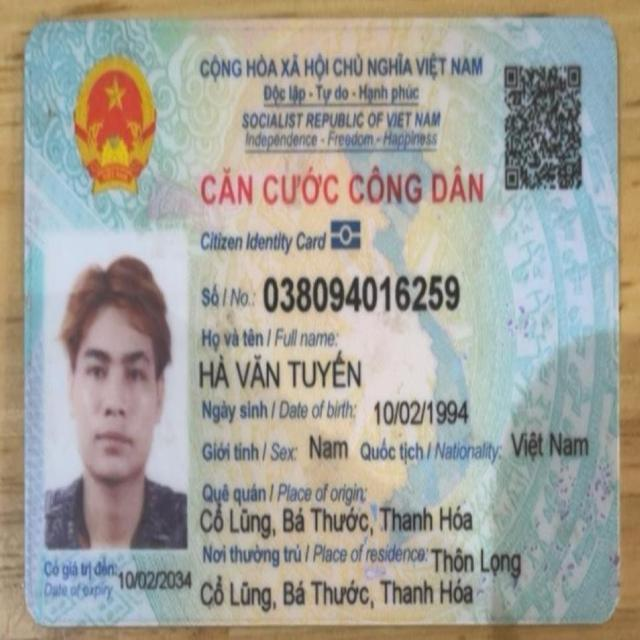current_place: (199, 569, 477, 613), (431, 540, 528, 581)
dob: (373, 396, 470, 428)
expire_date: (115, 563, 194, 594)
gender: (306, 429, 351, 465)
id: (260, 272, 463, 314)
name: (193, 345, 365, 393)
nationality: (509, 426, 596, 465)
origin_place: (199, 502, 479, 541)
qr: (501, 59, 586, 191)
